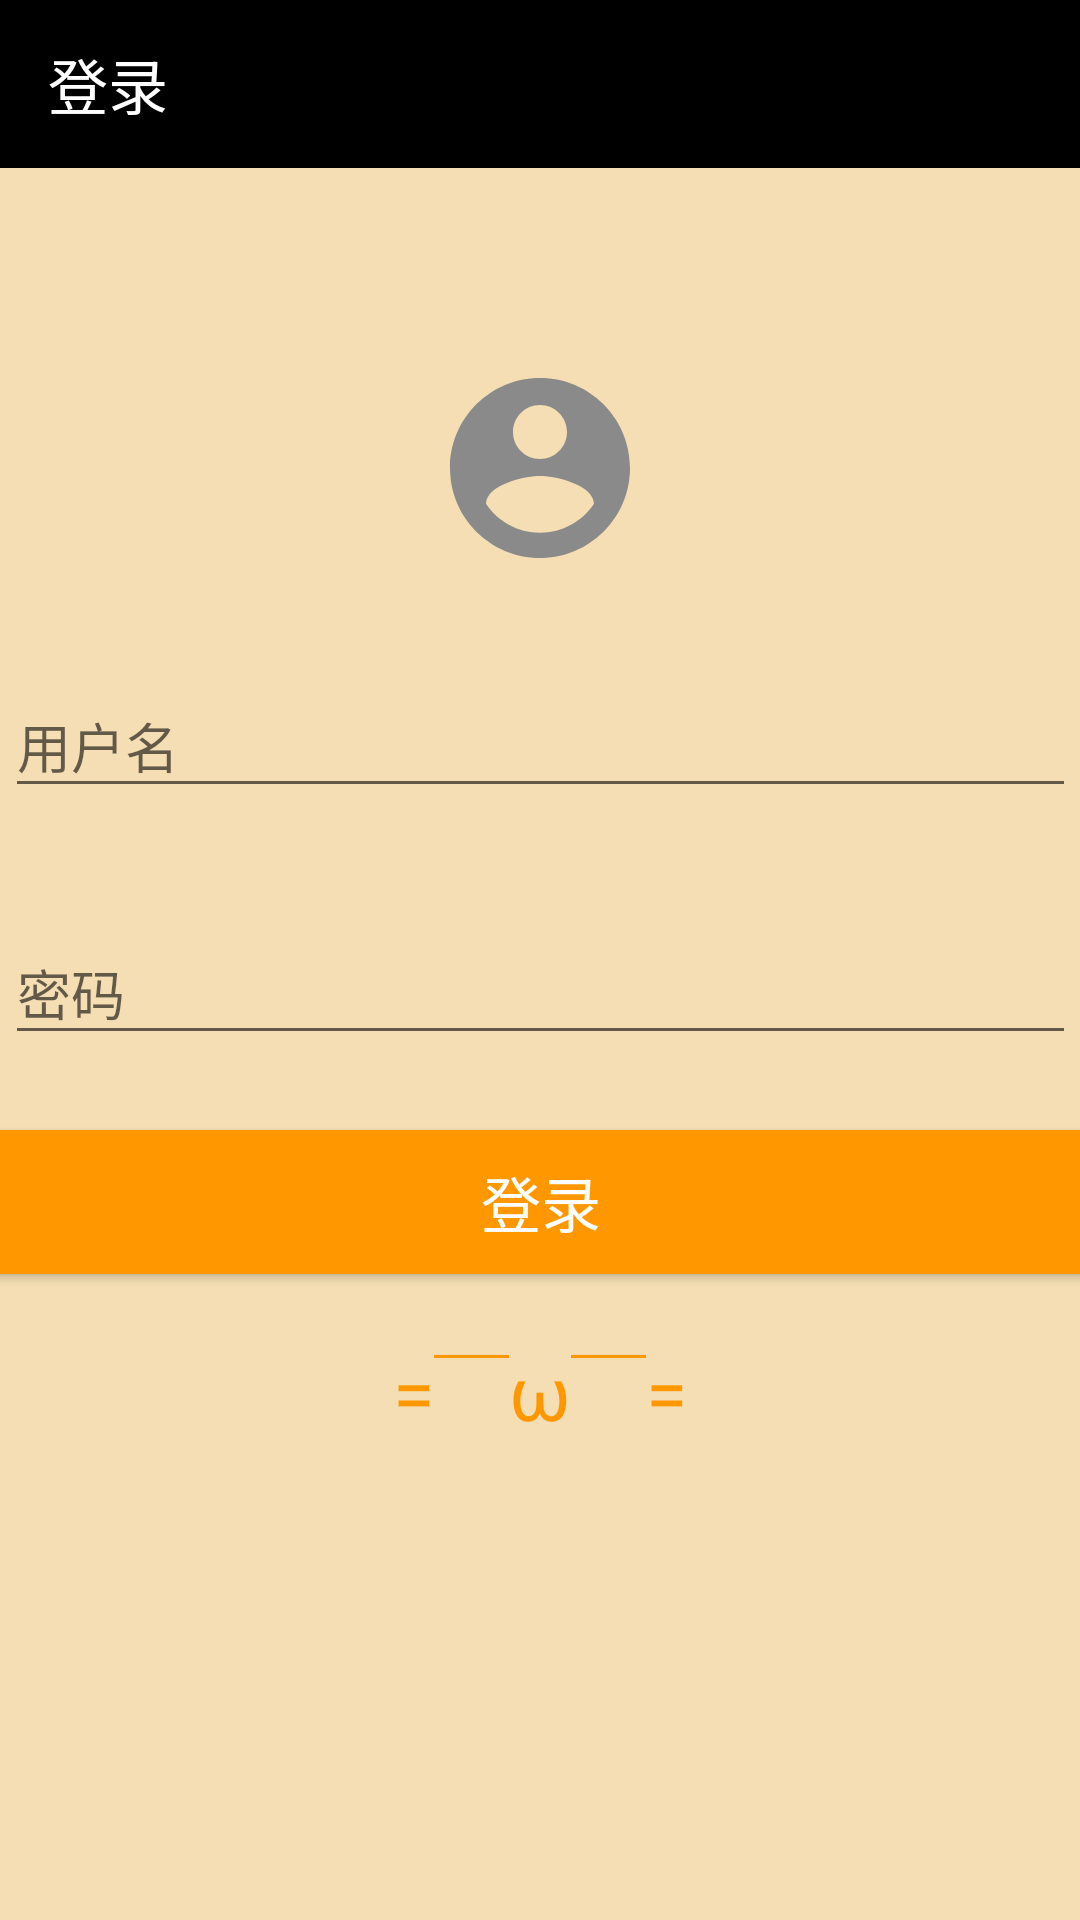

Icons on this 1080 × 1920 Android screen, each with its box as (x1, y1, x2, y2):
account circle: (450, 378, 630, 558)
